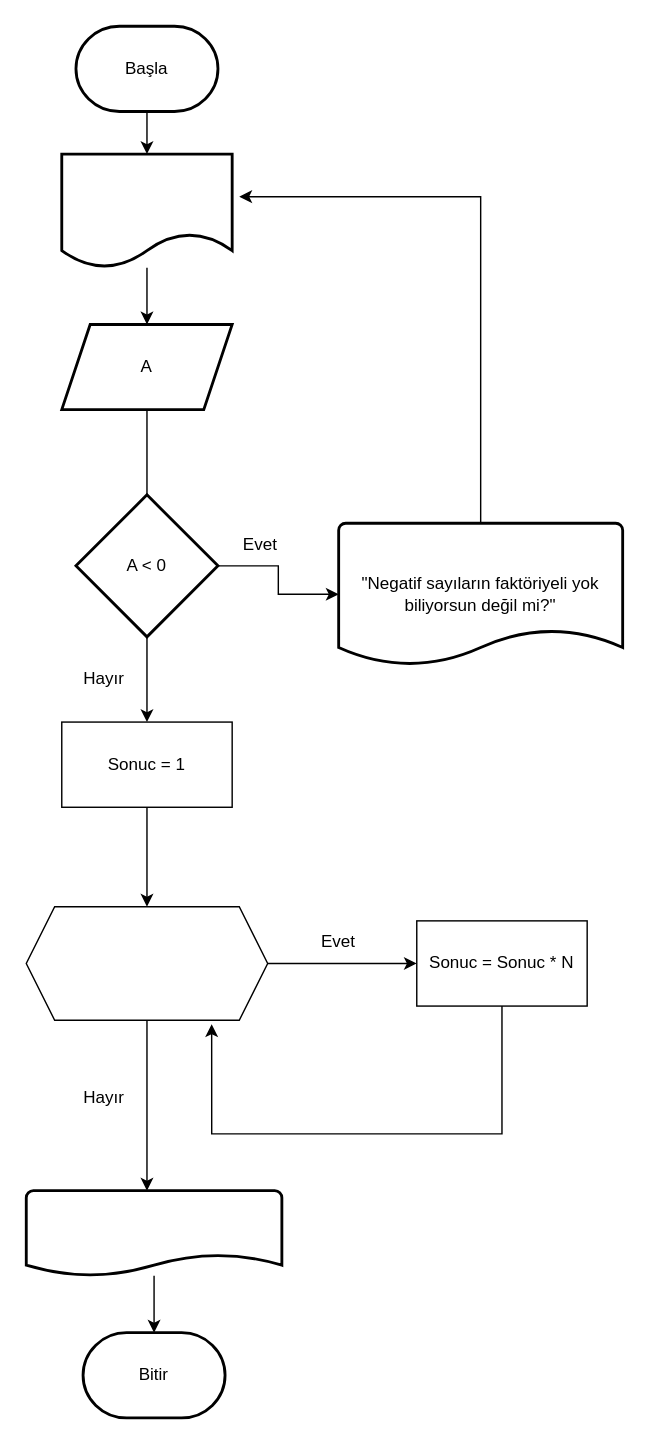
Image size: 648x1443. Some labels were removed from this diagram. Here are the shapes that lost their labels. From the top down, the centre of each, then its label:
(x=146, y=210): "Sayı Giriniz"
(x=146, y=962): N = 2 ; N <= A ; N += 1
(x=153, y=1233): "Faktöriyel = ", Sonuc
